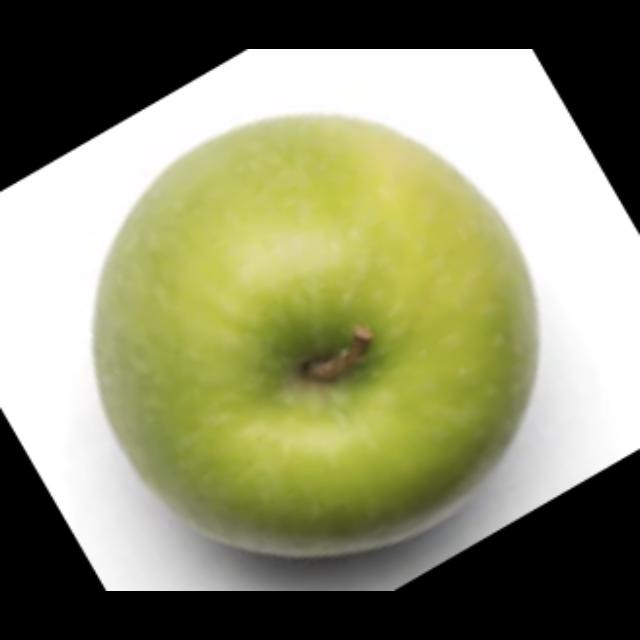Apel Segar: (93, 114, 537, 556)
